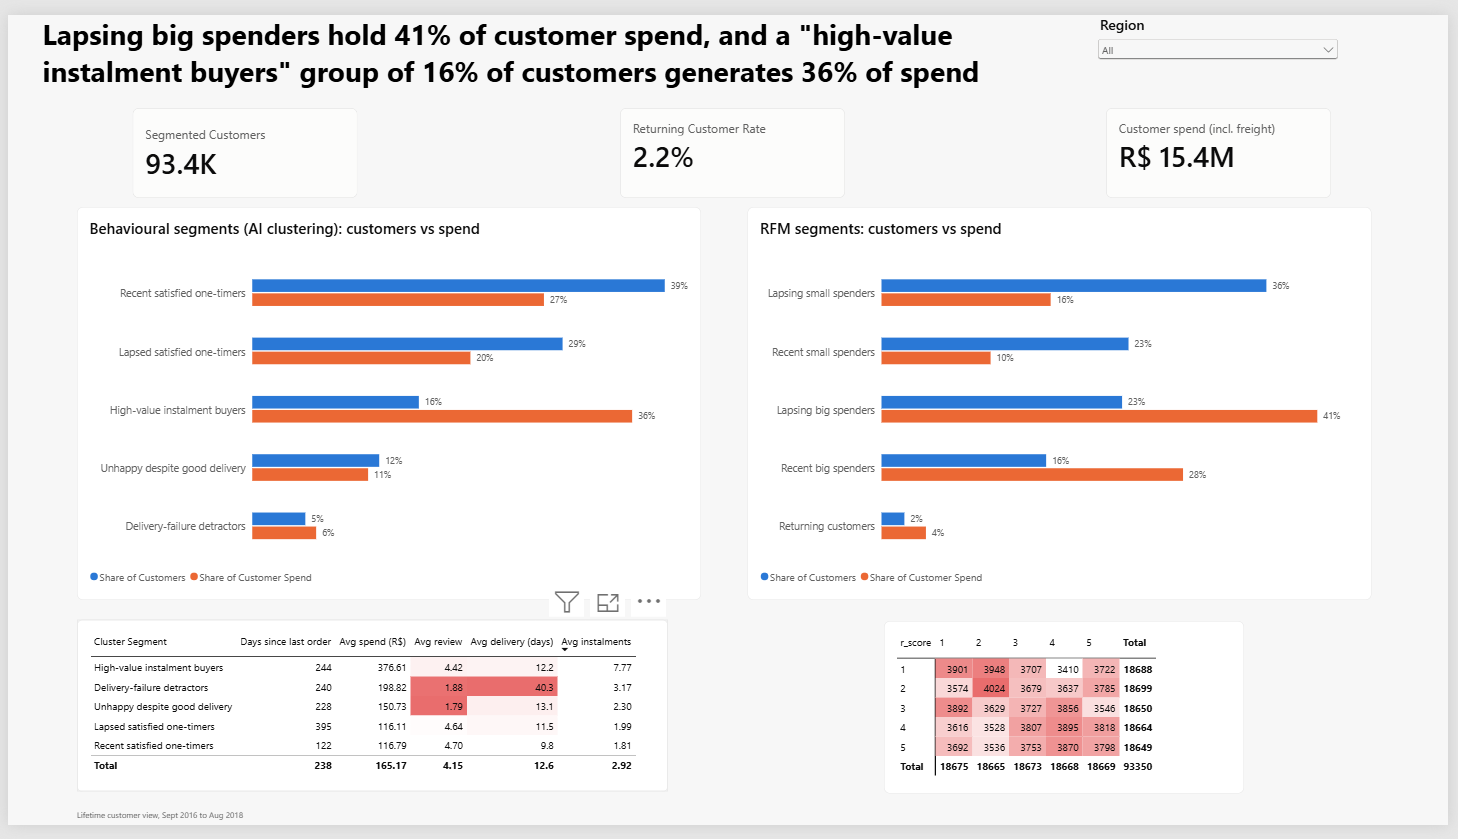

This screenshot's page, from the dashboard's own definition file:
{"tool":"powerbi","page":{"name":"Page 3","canvas":[1920,1080],"ordinal":2},"visuals":[{"type":"slicer","fields":{"Values":["dim_sellers.seller_region"]},"box":[1448,0,330,78],"z":0},{"type":"textbox","box":[46,0,1272,132],"z":1000},{"type":"cardVisual","fields":{"Data":["Measures (2).Segmented Customers"]},"box":[166.7,124,300,120],"z":2000},{"type":"cardVisual","fields":{"Data":["Measures (2).Returning Customer Rate"]},"box":[815.7,124,300,120],"z":3000},{"type":"cardVisual","fields":{"Data":["Measures (2).Customer Spend"]},"box":[1464.7,124,300,120],"z":4000},{"type":"clusteredBarChart","title":"Behavioural segments (AI clustering): customers vs spend","fields":{"Category":["dim_customers.cluster_segment"],"Y":["Measures (2).Share of Customers","Measures (2).Share of Customer Spend"]},"box":[91.3,256.7,832,524],"z":5000},{"type":"clusteredBarChart","title":"RFM segments: customers vs spend","fields":{"Category":["dim_customers.RFM Segment Label"],"Y":["Measures (2).Share of Customers","Measures (2).Share of Customer Spend"]},"box":[985.3,256.7,832,524],"z":6000},{"type":"pivotTable","fields":{"Columns":["dim_customers.m_score"],"Rows":["dim_customers.r_score"],"Values":["Measures (2).Segmented Customers"]},"box":[1167.3,808.7,480,230],"z":7000},{"type":"tableEx","fields":{"Values":["dim_customers.cluster_segment","Avg(dim_customers.recency_days)","Avg(dim_customers.total_spend)","Avg(dim_customers.avg_review_score)","Avg(dim_customers.avg_delivery_days)","Avg(dim_customers.avg_installments)"]},"box":[91.3,806.7,788,230],"z":8000},{"type":"textbox","box":[92,1056,662,24],"z":9000}]}

Visuals, with their boxes in screenshot pixels (x1, y1, x2, y2), scaled from the page's 1920x1080 canvas onto the 1458x839 screenshot:
slicer - dim_sellers.seller_region: x1=1100 y1=0 x2=1350 y2=61
textbox: x1=35 y1=0 x2=1001 y2=103
cardVisual - Measures (2).Segmented Customers: x1=127 y1=96 x2=354 y2=190
cardVisual - Measures (2).Returning Customer Rate: x1=619 y1=96 x2=847 y2=190
cardVisual - Measures (2).Customer Spend: x1=1112 y1=96 x2=1340 y2=190
"Behavioural segments (AI clustering): customers vs spend" clusteredBarChart: x1=69 y1=199 x2=701 y2=606
"RFM segments: customers vs spend" clusteredBarChart: x1=748 y1=199 x2=1380 y2=606
pivotTable - dim_customers.m_score x dim_customers.r_score: x1=886 y1=628 x2=1251 y2=807
tableEx - dim_customers.cluster_segment x Avg(dim_customers.recency_days): x1=69 y1=627 x2=668 y2=805
textbox: x1=70 y1=820 x2=573 y2=838
